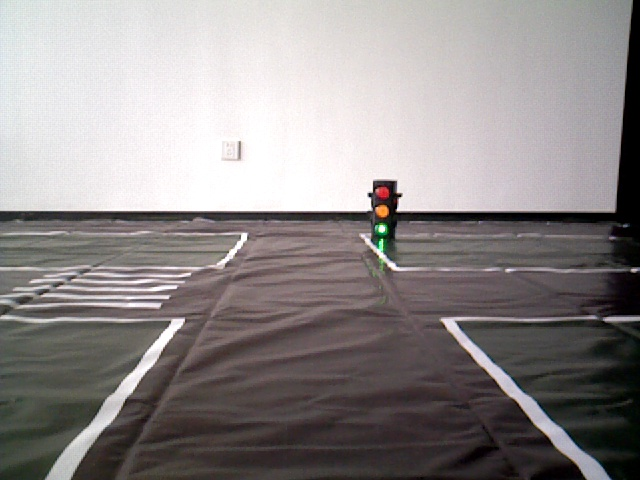green: (373, 181, 390, 236)
